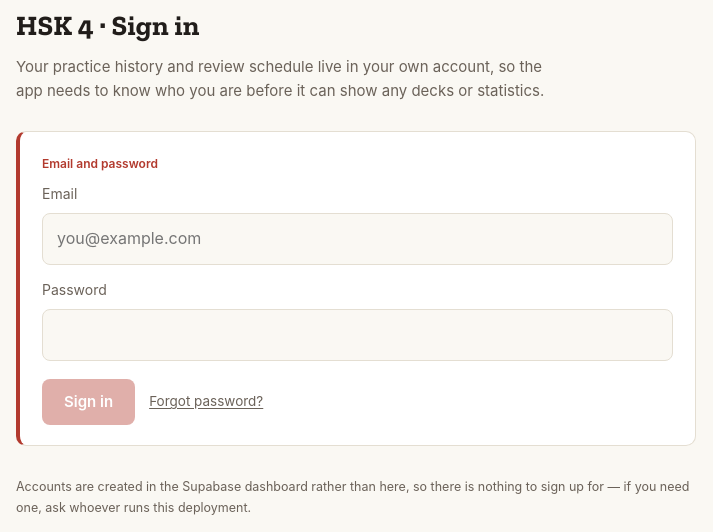
Test: LoginComponent › sends the reset email and says where it went
Type "learner@example.com" into the field labelled "Email". click: (358, 239)
box: [42,213,673,265]
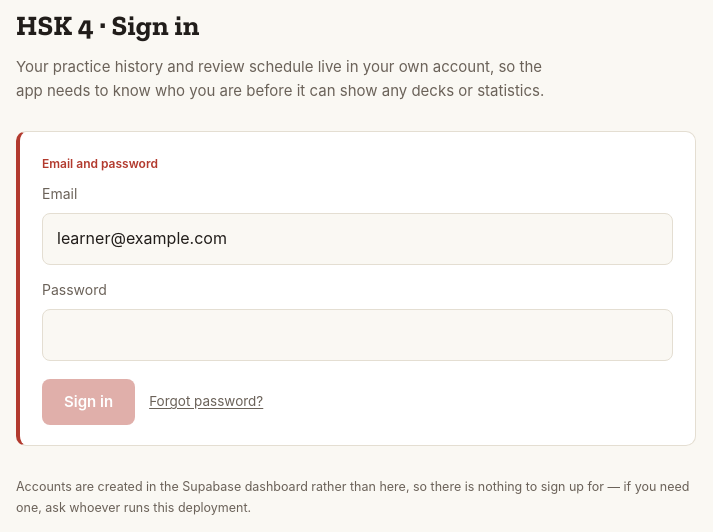
Click the button with class "linkbtn". click: (206, 402)
box: [149,387,263,417]
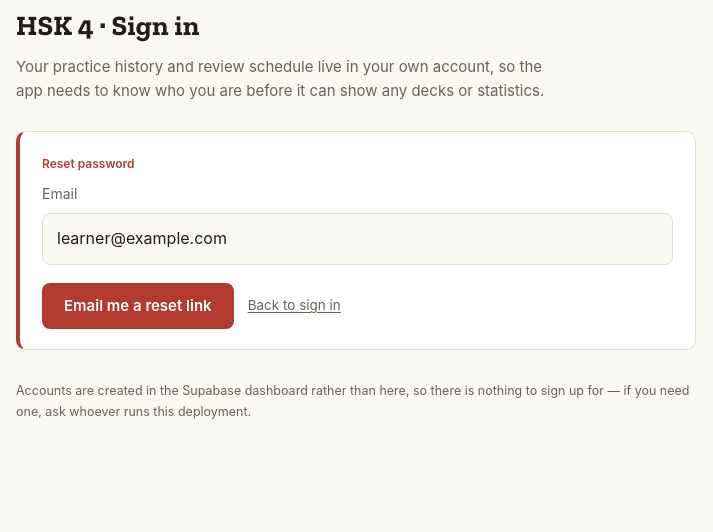
Submit the form, box [16,131,696,350]
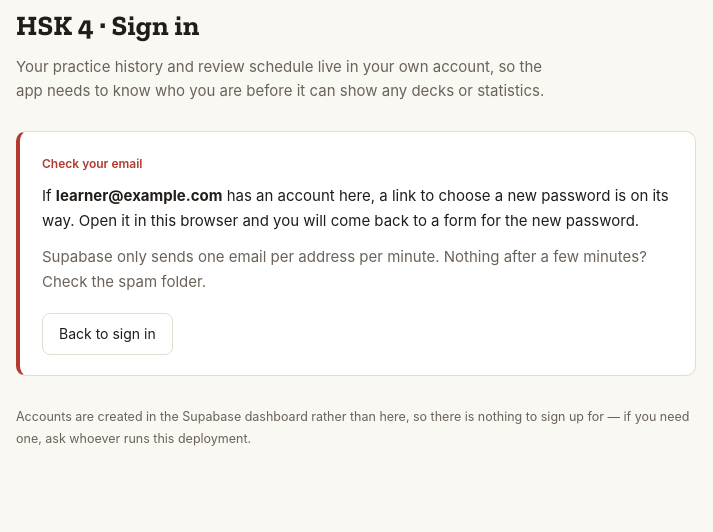
Now the text "Check your email" is shown, box [42,156,142,171]
